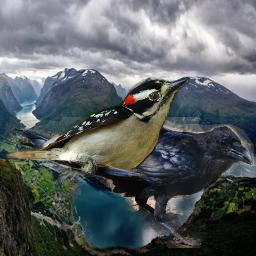Crow: (9, 117, 254, 248)
Woodpecker: (6, 73, 190, 178)
